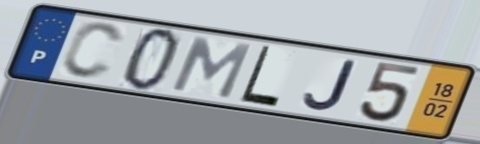0: (118, 26, 182, 92)
5: (358, 60, 424, 125)
C: (58, 20, 127, 82)
J: (301, 58, 358, 113)
L: (236, 43, 283, 110)
M: (167, 34, 256, 102)
